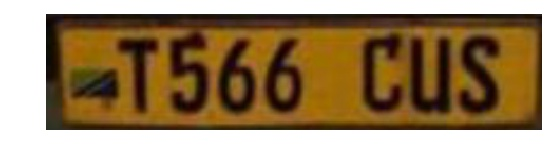T: (114, 31, 164, 117)
